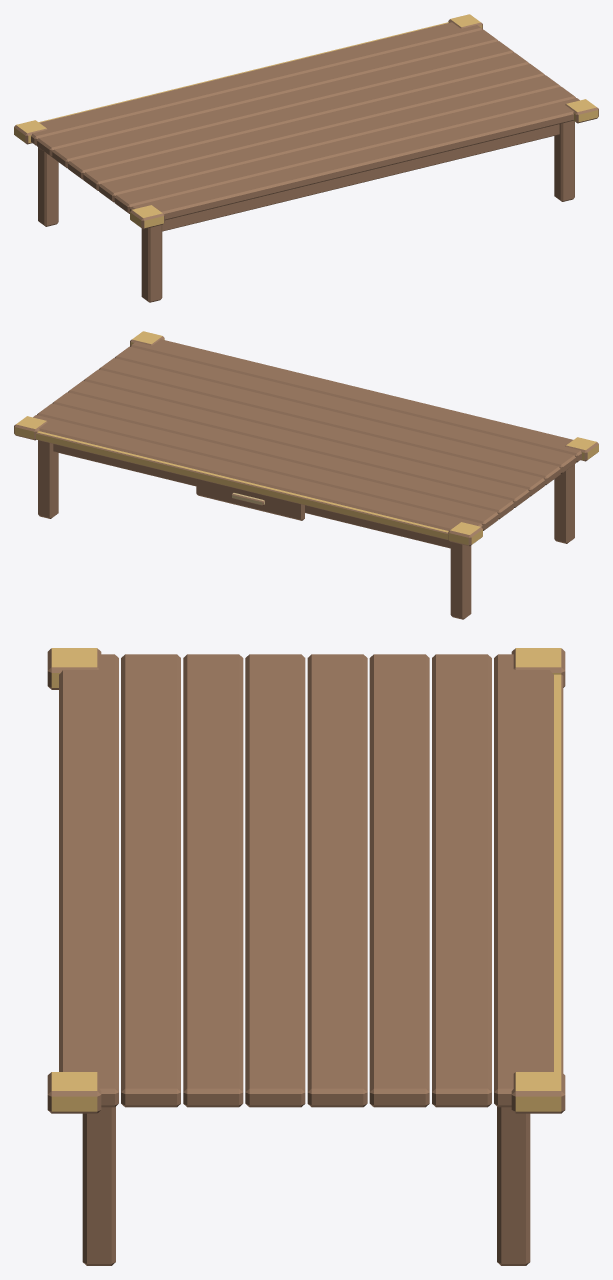
File: Table.fbx
3 views of the same model, one above another, from view 1: azimuth 30°, elevation 25°; view 2: azimuth 150°, elevation 25°; view 3: azimuth 270°, elevation 25° (orthographic). The views are drawn at different scales.
Visible parts, largest first — view 1: Table; view 2: Table; view 3: Table.
Part boxes in pixels (x1,y1,x2,y2): Table: (14,14,598,302); Table: (14,331,598,619); Table: (47,648,565,1265).
Bounding box in the file's own units: 5.1 × 1.01 × 2.5.
